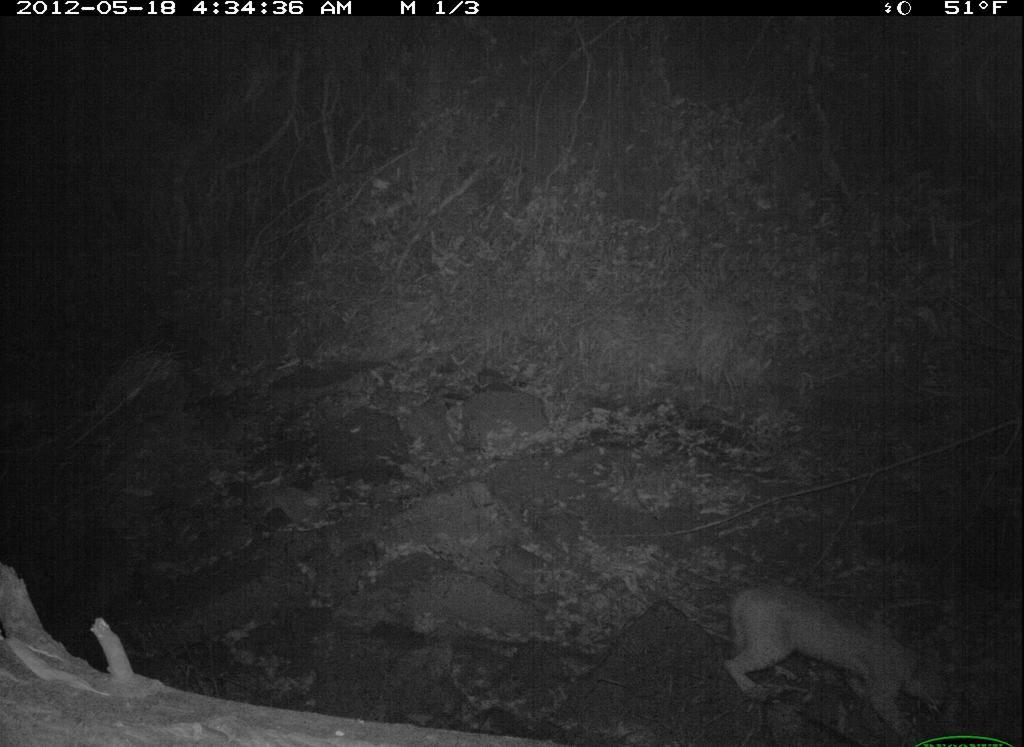bobcat: (694, 565, 969, 730)
